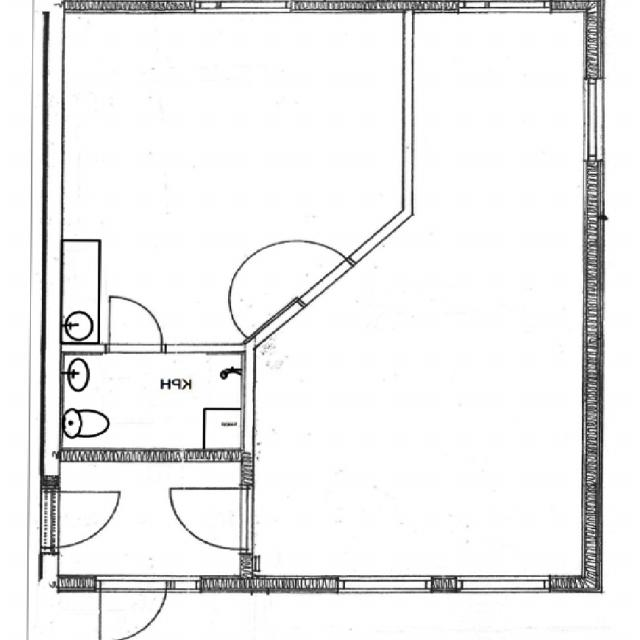door: (253, 218, 354, 305), (170, 488, 254, 549), (42, 492, 126, 546), (101, 574, 166, 640), (109, 297, 162, 353)
